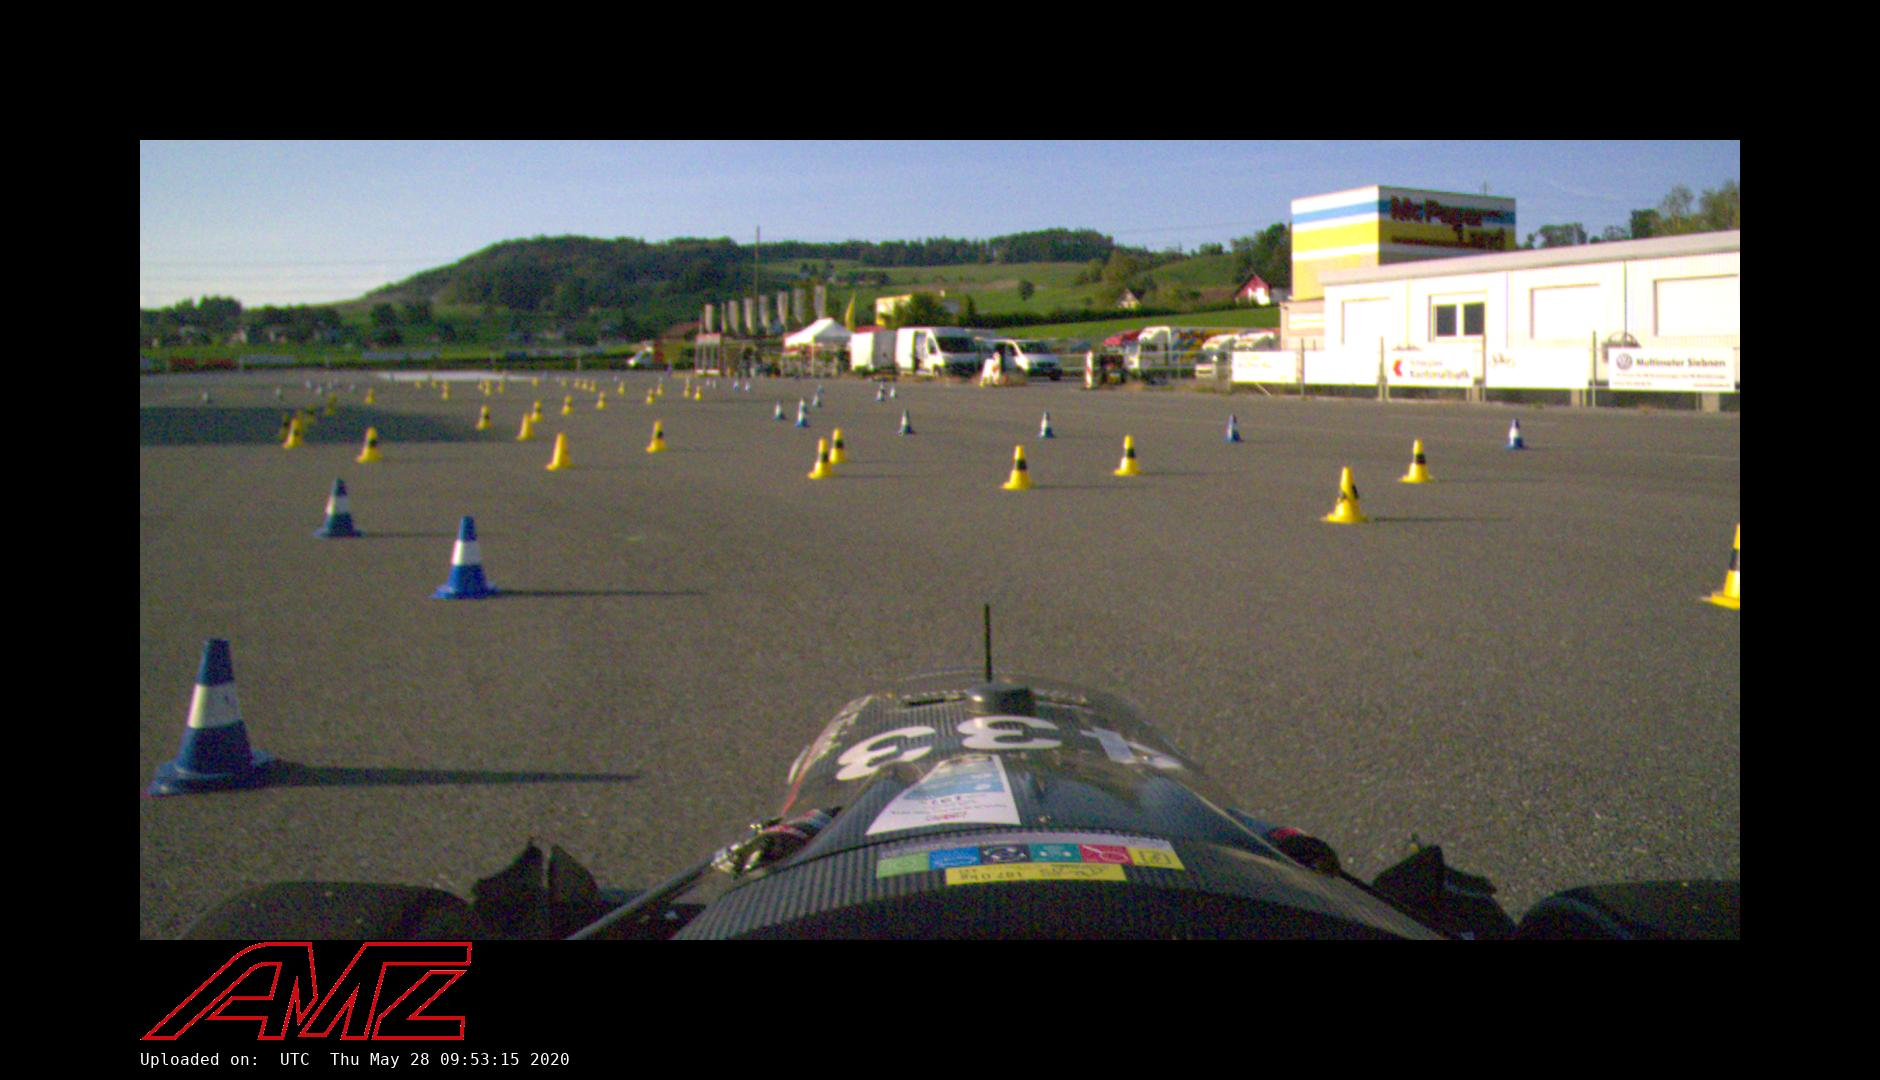blue_cone: (146, 638, 284, 800), (433, 514, 501, 598), (312, 478, 363, 537), (1220, 413, 1245, 443), (1506, 419, 1527, 451), (1036, 411, 1056, 439), (894, 410, 915, 435), (772, 400, 788, 422), (795, 407, 810, 428), (797, 397, 808, 413)
yellow_cone: (1702, 517, 1739, 610), (1320, 466, 1366, 524), (1400, 438, 1435, 482), (804, 437, 839, 479), (1002, 447, 1036, 488), (1113, 434, 1143, 475), (547, 433, 572, 470), (356, 429, 382, 461), (644, 422, 668, 453), (826, 428, 850, 457), (283, 420, 305, 451), (516, 413, 536, 442), (476, 406, 492, 430)
